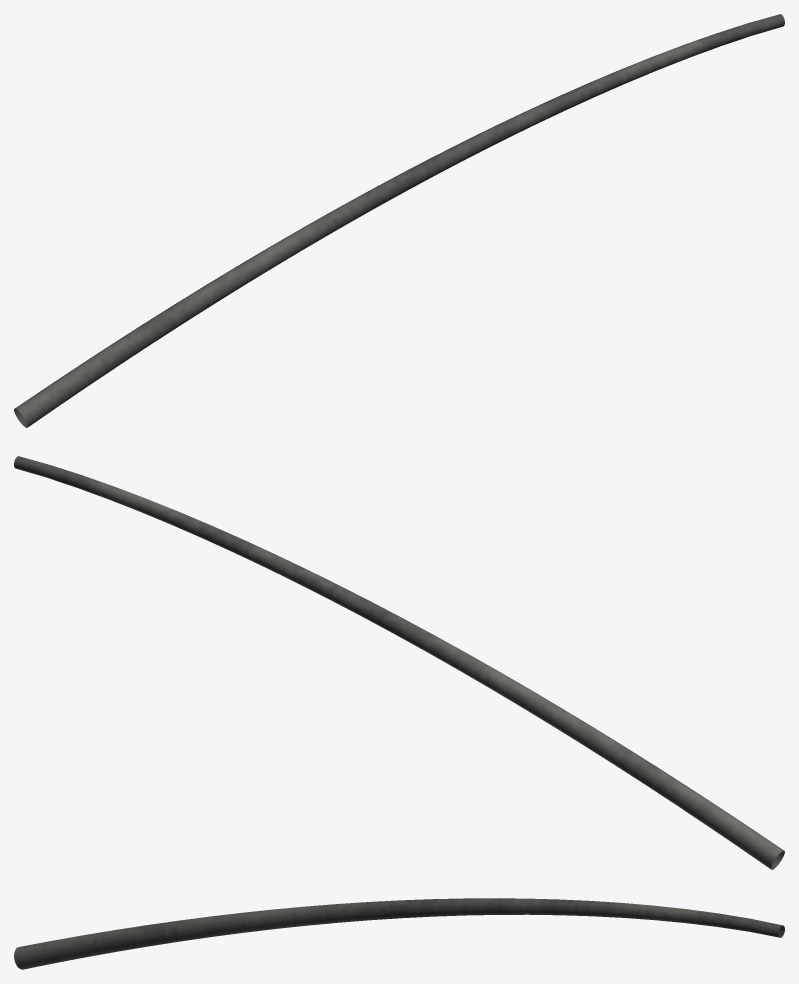
Rendered from armRise2-v1.glb.
The picture shows the model from 3 angles, top to bottom: view 1: azimuth 30°, elevation 25°; view 2: azimuth 150°, elevation 25°; view 3: azimuth 330°, elevation 25°; orthographic projection.
Visible parts, largest first — view 1: armRise2-v1; view 2: armRise2-v1; view 3: armRise2-v1.
Part boxes in pixels (x1,y1,x2,y2): armRise2-v1: [14, 14, 784, 427]; armRise2-v1: [14, 456, 784, 869]; armRise2-v1: [14, 898, 784, 969].
Size of the model in its own units: 7.66 by 2.18 by 0.2.
Materials: 1 (1 with a texture image).
